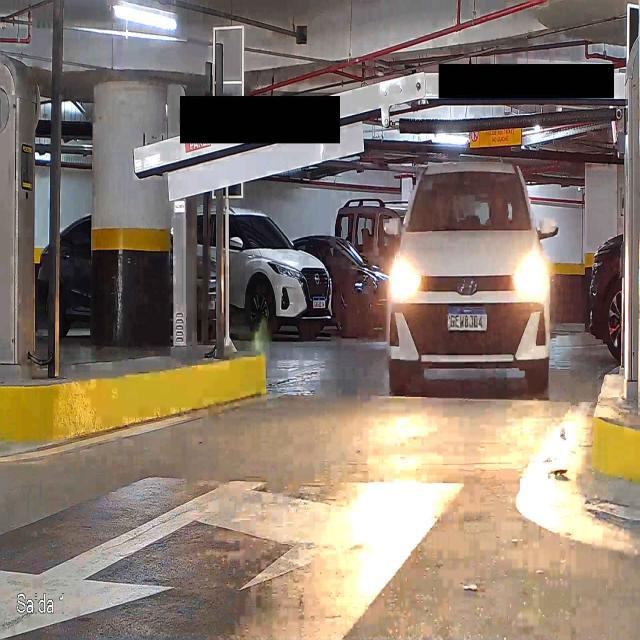mercosul_plate: (446, 305, 488, 333)
